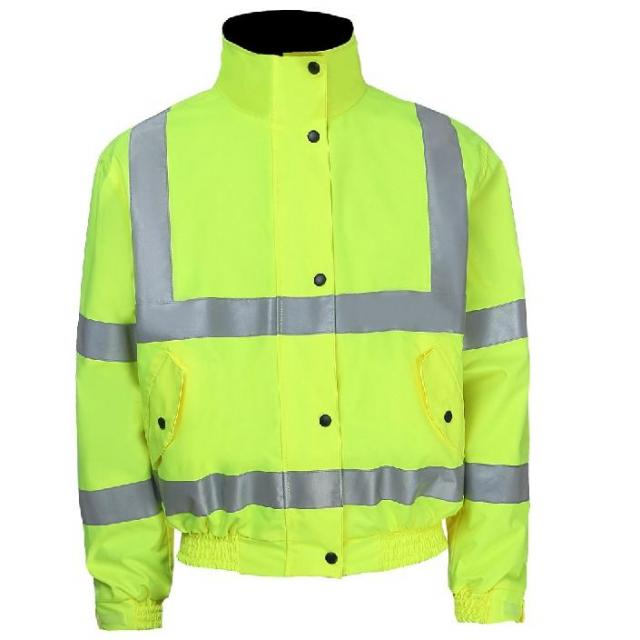Reflective-Jacket: (39, 19, 573, 633)
